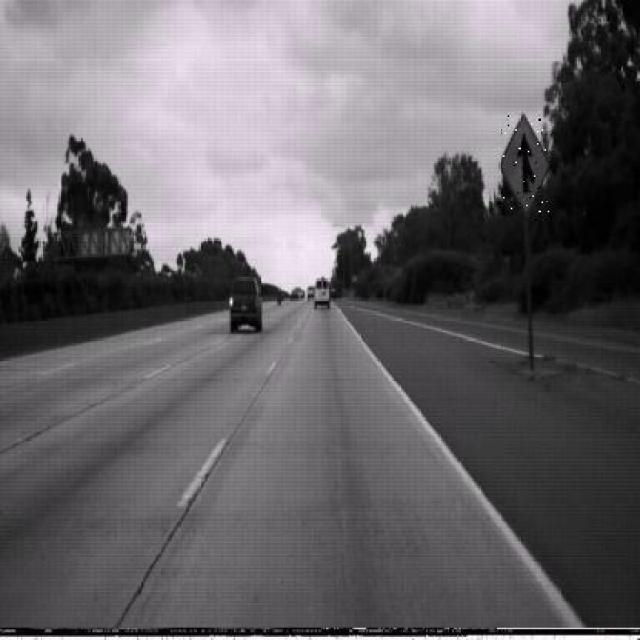merge: (498, 112, 551, 216)
